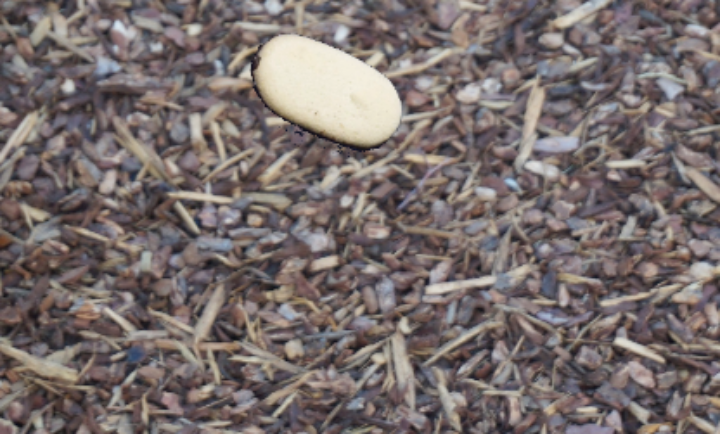test: (229, 0, 415, 189)
